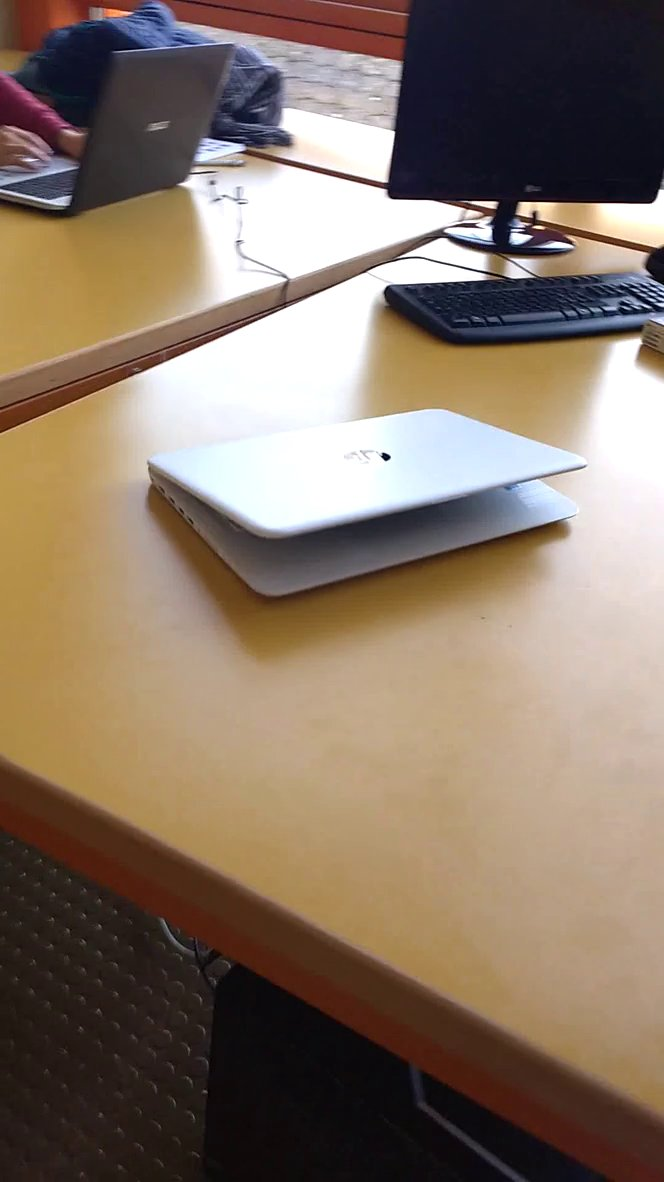laptop: (135, 391, 597, 624), (1, 24, 247, 226)
